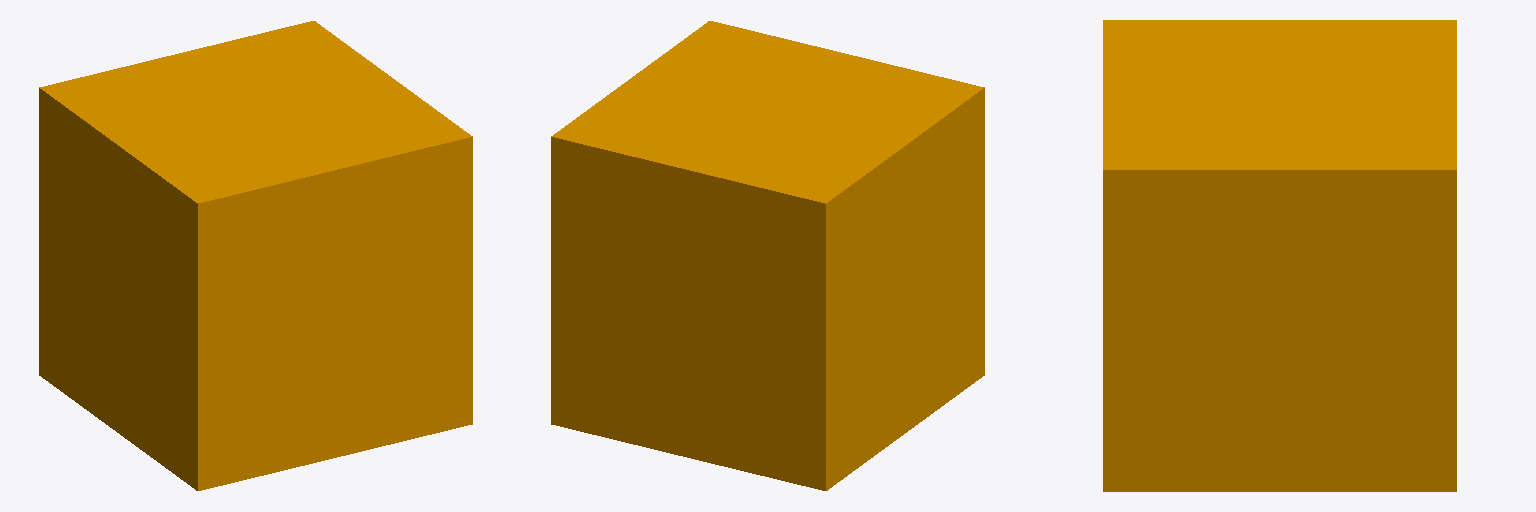
The robot description file, URDF, robot "object":
<?xml version="1.0"?>
<robot name="object">
  <link name="object">
    <visual>
      <origin xyz="0.0 0.0 0.0"/>
      <geometry>
        <mesh filename="cube_small.stl" scale="1.00 1.00 1.00"/>
      </geometry>
    </visual>
    <collision>
      <origin xyz="0.0 0.0 0.0"/>
      <geometry>
        <mesh filename="cube_small.stl" scale="1.00 1.00 1.00"/>
      </geometry>
    </collision>
  </link>
</robot>
    
                    

--- Render facts (derived) ---
Views: 3 orthographic renders of the robot side by side, from view 1: azimuth 30°, elevation 25°; view 2: azimuth 150°, elevation 25°; view 3: azimuth 270°, elevation 25°.
Model object with 1 links and 0 joints (none), rooted at object, posed every joint at zero.
Links seen in each view (by area): view 1: object; view 2: object; view 3: object.
Boxes of the visible links, x1,y1,x2,y2 form: object: (39, 21, 472, 490); object: (551, 21, 984, 490); object: (1103, 20, 1456, 491).
Size in the robot's own frame: 0.04 by 0.04 by 0.04 metres.
1 mesh visuals loaded from 1 distinct referenced files (1 binary STL).
